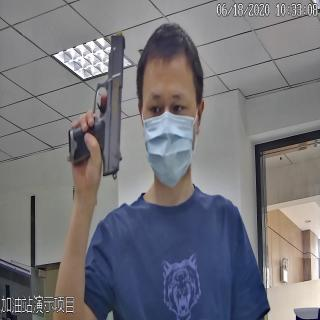gun: (68, 31, 126, 184)
